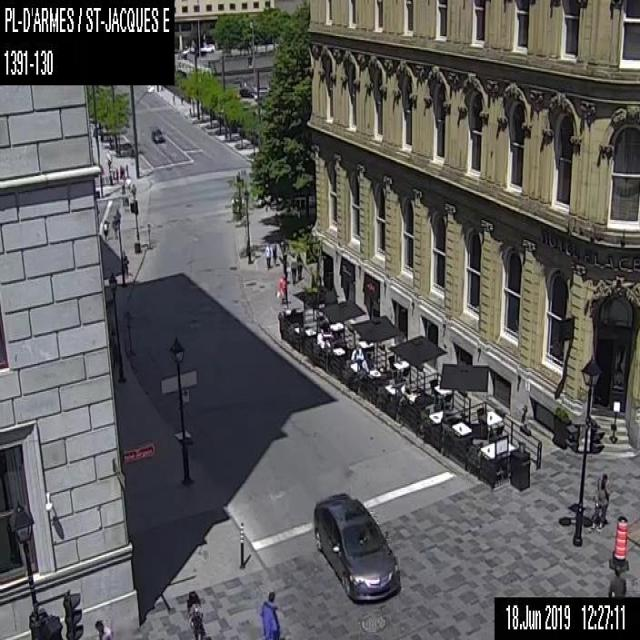construction: (608, 514, 630, 574)
pedestrian: (589, 471, 609, 533), (257, 590, 282, 638), (186, 590, 207, 639), (608, 565, 626, 596), (92, 618, 115, 639), (276, 270, 284, 302), (289, 254, 296, 283), (101, 217, 109, 241), (111, 214, 119, 238), (264, 243, 271, 270), (296, 250, 302, 279), (271, 240, 277, 265), (115, 208, 120, 220), (115, 167, 118, 181), (125, 163, 128, 176), (107, 158, 110, 170), (121, 165, 124, 177), (119, 164, 121, 178)
vehicle: (312, 492, 400, 604), (198, 40, 216, 55), (150, 125, 163, 142), (251, 82, 268, 94)
